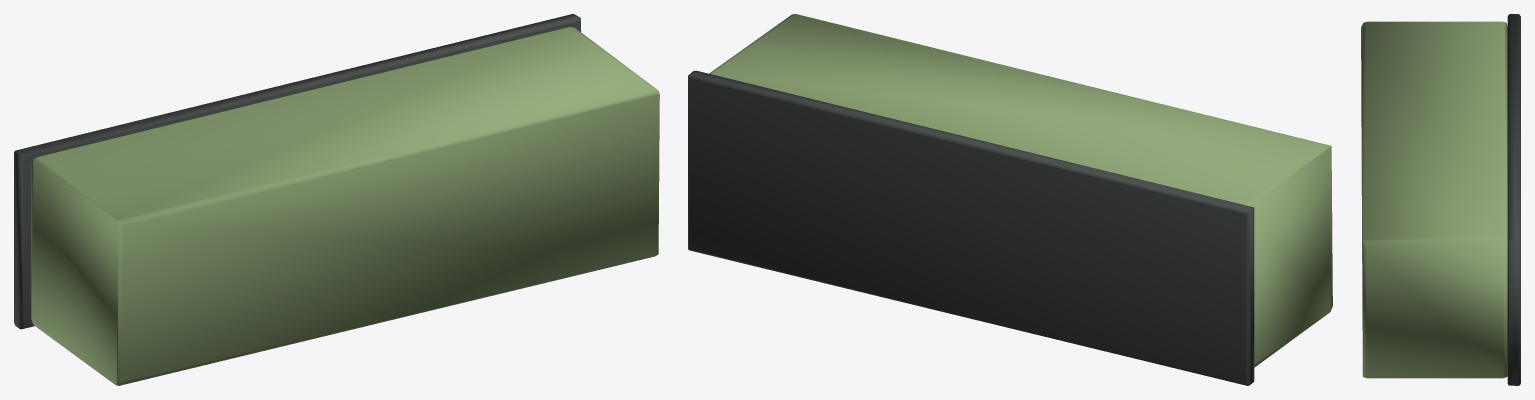
Rendered from equipment_checkout_counter.glb.
The picture shows the model from 3 angles, left to right: view 1: azimuth 30°, elevation 25°; view 2: azimuth 150°, elevation 25°; view 3: azimuth 270°, elevation 25°; orthographic projection. The views are drawn at different scales.
Visible parts, largest first — view 1: Counter, Top; view 2: Top, Counter; view 3: Counter, Top.
Part boxes in pixels (<box>): Counter: <box>31,27,659,385</box>; Top: <box>14,14,581,329</box>; Top: <box>688,70,1254,385</box>; Counter: <box>709,14,1332,367</box>; Counter: <box>1361,21,1507,378</box>; Top: <box>1507,14,1520,385</box>.
Size of the model in its own units: 3.19 by 0.9498 by 0.9499.
